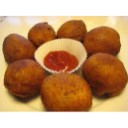bonda: (43, 75, 90, 114), (87, 53, 128, 94), (4, 59, 44, 100), (85, 26, 122, 56), (4, 33, 36, 61), (59, 18, 87, 43), (28, 21, 56, 43)
